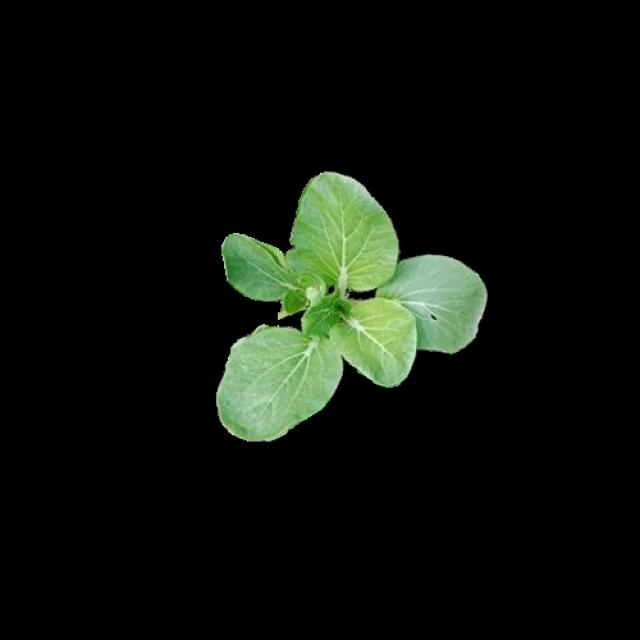not-mature: (219, 170, 488, 437)
unhealthy: (393, 256, 493, 355)
